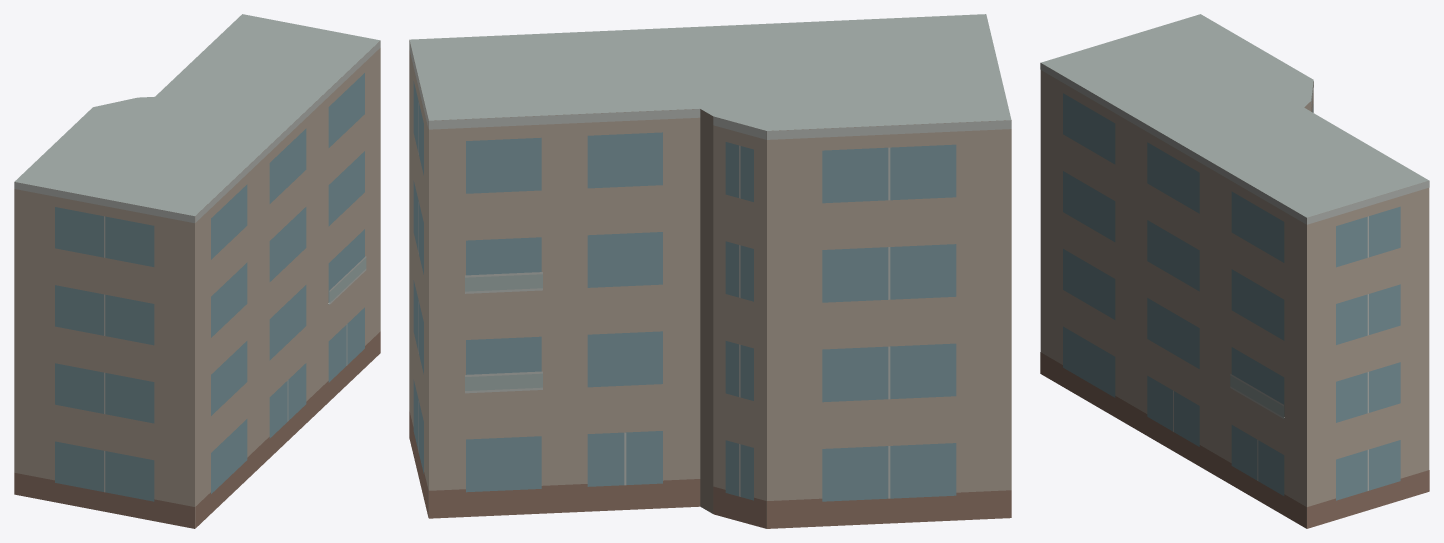
The model's file is survey-upis-32630855.glb.
3 renders of one model, left to right at view 1: azimuth 30°, elevation 25°; view 2: azimuth 150°, elevation 25°; view 3: azimuth 270°, elevation 25°, orthographic. The views are drawn at different scales.
Parts seen in each view (by area): view 1: survey-upis-32630855.tmp; view 2: survey-upis-32630855.tmp; view 3: survey-upis-32630855.tmp.
Part boxes in pixels (x1,y1,x2,y2): survey-upis-32630855.tmp: (14,14,380,528); survey-upis-32630855.tmp: (409,14,1011,528); survey-upis-32630855.tmp: (1040,14,1429,528).
Bounding box in the file's own units: 15.18 × 10.8 × 12.24.
